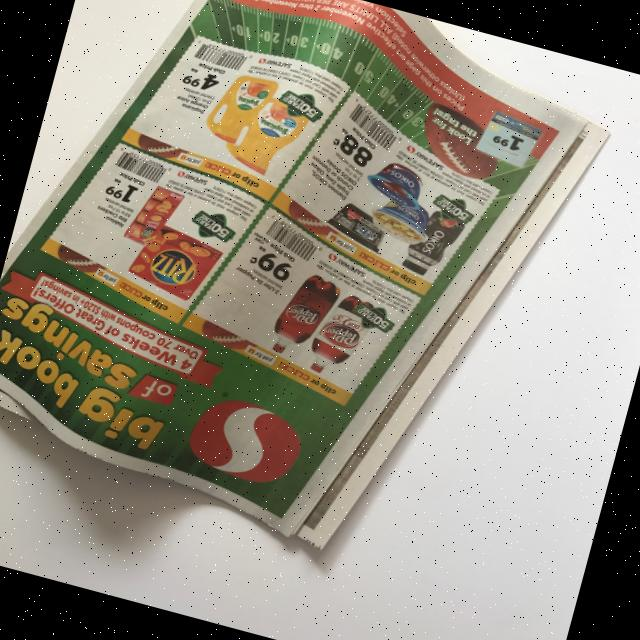paper: (0, 0, 626, 595)
